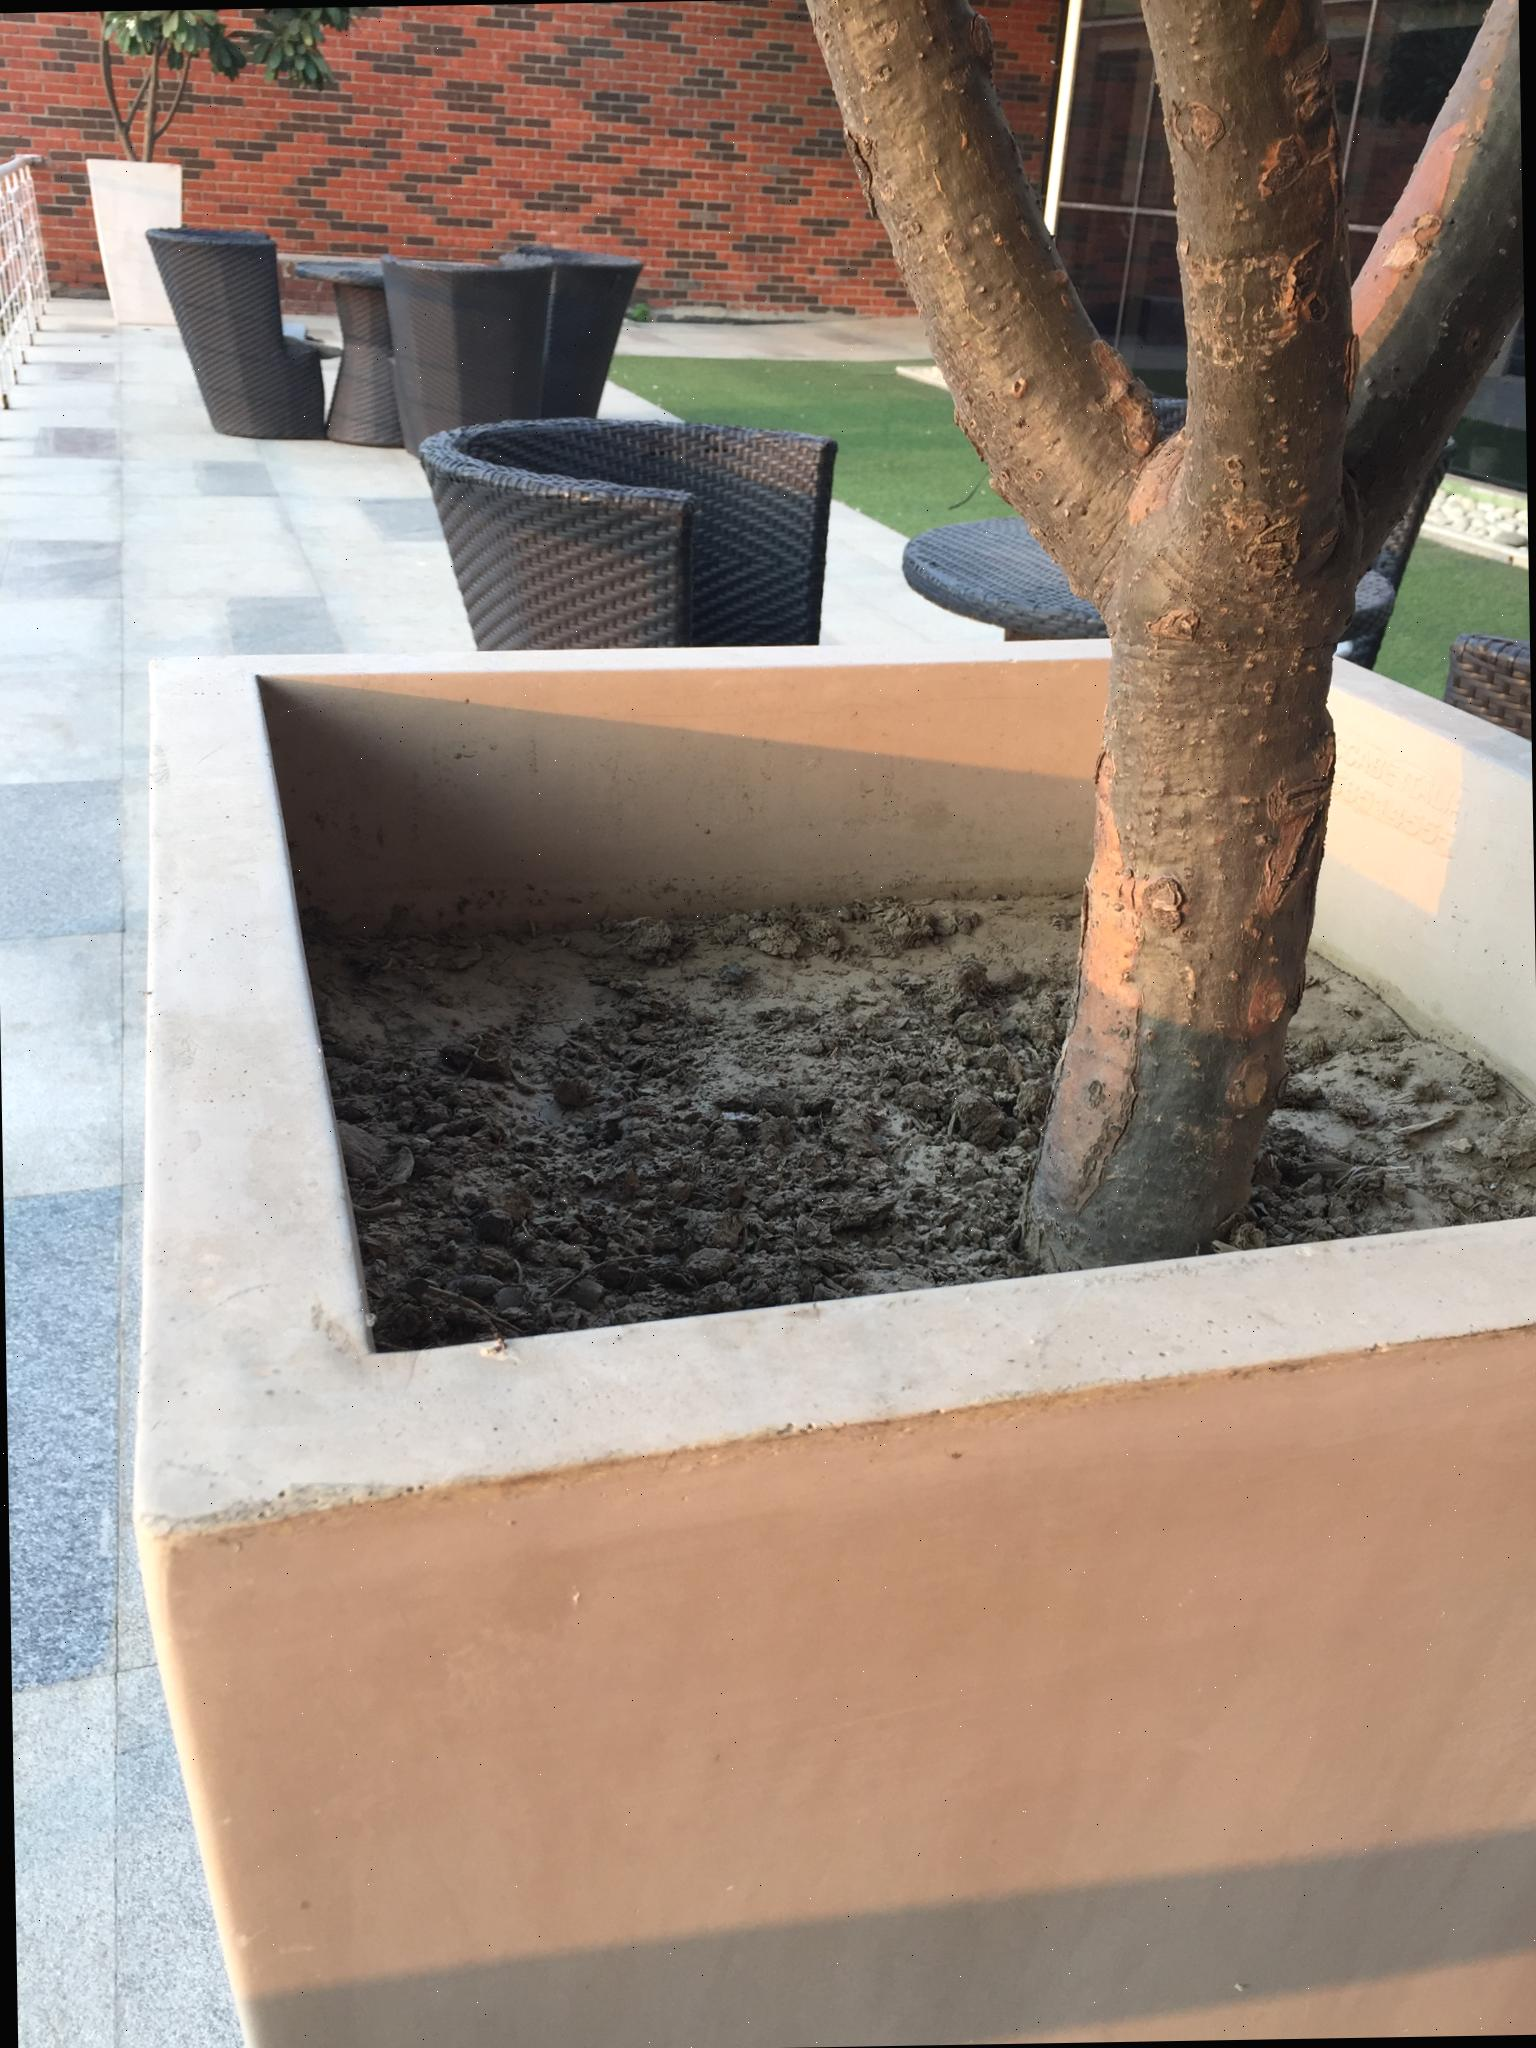chair: (416, 411, 841, 653), (305, 223, 674, 466), (144, 223, 342, 442)
